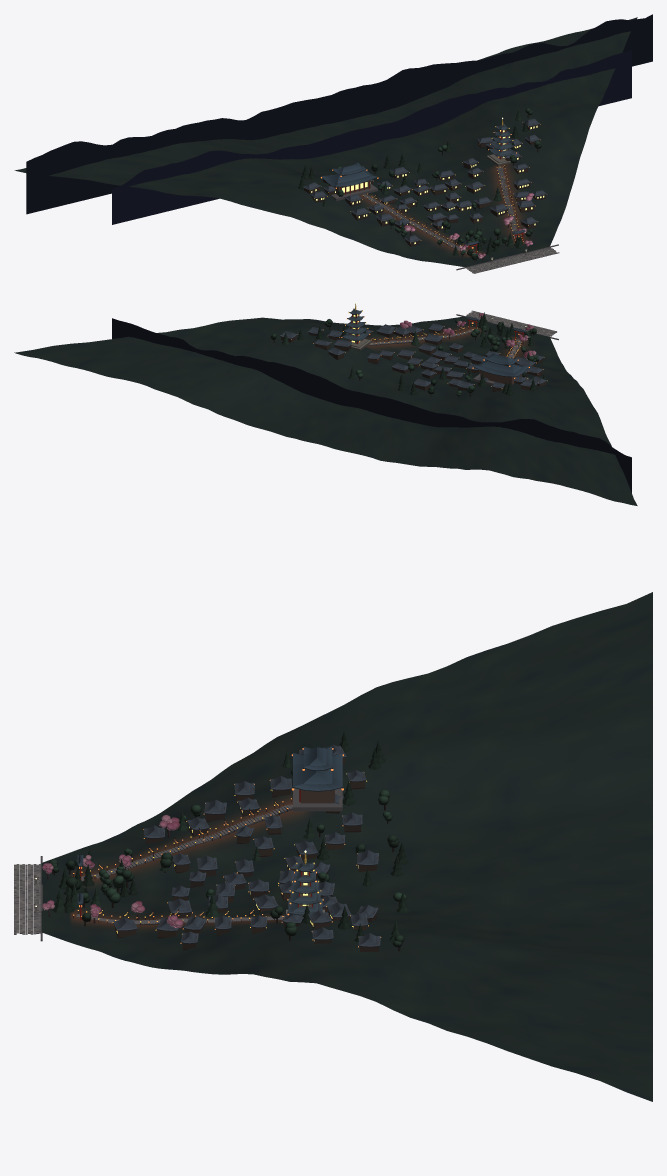
The model's file is backdrop_1.glb.
3 views of the same model, one above another, from view 1: azimuth 30°, elevation 25°; view 2: azimuth 150°, elevation 25°; view 3: azimuth 270°, elevation 25° (orthographic). The views are drawn at different scales.
Parts seen in each view (by area): view 1: mid_hill, far_ridges, mid_town, mid_trees, lm_hall, lm_stairs, fg_terrace, lm_pagoda, lm_lanterns, mid_blossom; view 2: mid_hill, far_ridges, mid_town, mid_trees, lm_hall, lm_pagoda, lm_stairs, fg_terrace, mid_blossom; view 3: mid_hill, mid_town, mid_trees, lm_hall, lm_stairs, fg_terrace, lm_pagoda, mid_blossom.
Part boxes in pixels (x1,y1,x2,y2): mid_hill: (14,17,637,267); far_ridges: (26,14,652,224); mid_town: (303,118,546,246); mid_trees: (298,108,541,261); lm_hall: (321,162,377,200); lm_stairs: (363,166,525,253); fg_terrace: (456,244,559,273); lm_pagoda: (486,117,516,165); lm_lanterns: (314,122,540,251); mid_blossom: (404,193,533,261); mid_hill: (14,316,637,505); far_ridges: (112,318,631,492); mid_town: (280,323,547,391); mid_trees: (270,312,546,397); lm_hall: (473,352,529,385); lm_pagoda: (342,302,371,350); lm_stairs: (369,316,525,358); fg_terrace: (456,310,558,340); mid_blossom: (400,313,536,358); mid_hill: (41,592,652,1101); mid_town: (113,744,380,951); mid_trees: (49,730,409,951); lm_hall: (293,746,342,811); lm_stairs: (73,799,292,925); fg_terrace: (14,856,42,941); lm_pagoda: (286,850,324,915); mid_blossom: (42,814,183,927).
Bounding box in the file's own units: 392 × 40.65 × 206.
